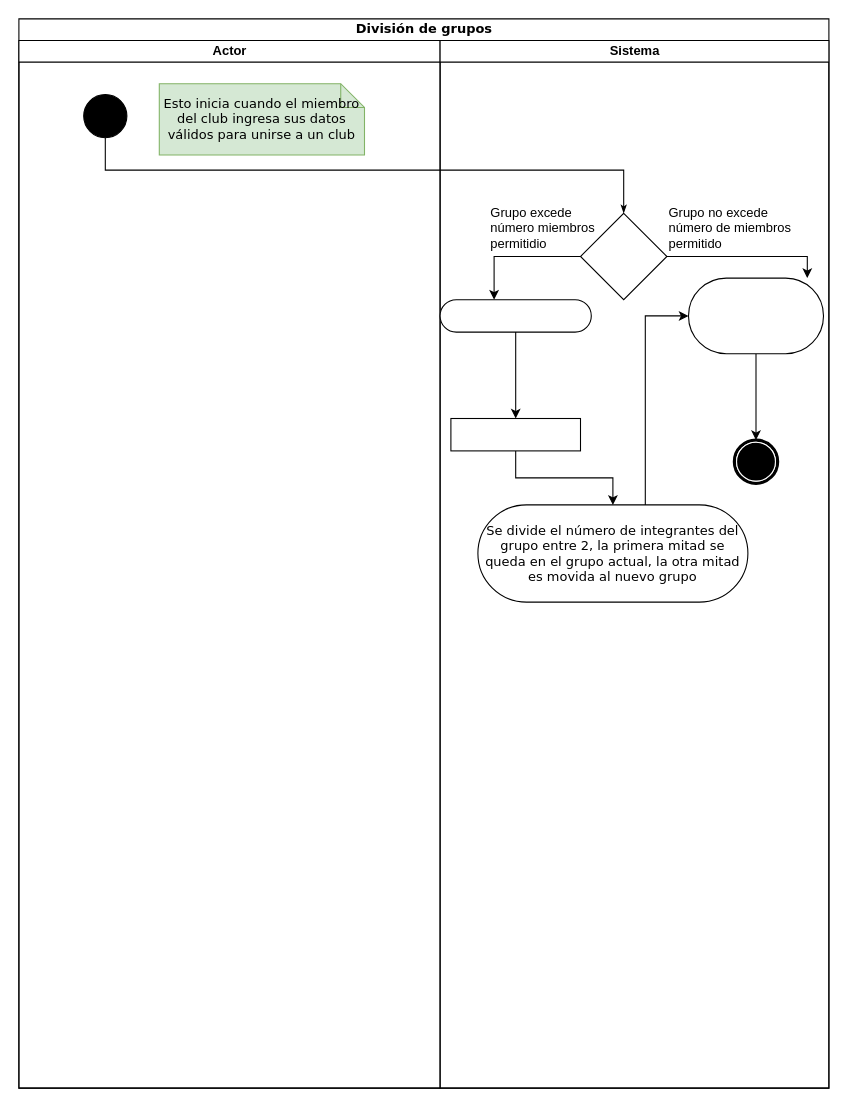
Some shapes in this 848 by 1107 pixel diagram are drawn without their labels. Each missing label, with the centre of its shape:
[Grupo]: [515,434]
Crea un nuevo grupo: [515,315]
Muestra mensaje "Usted se ha unido al grupo": [755,315]
